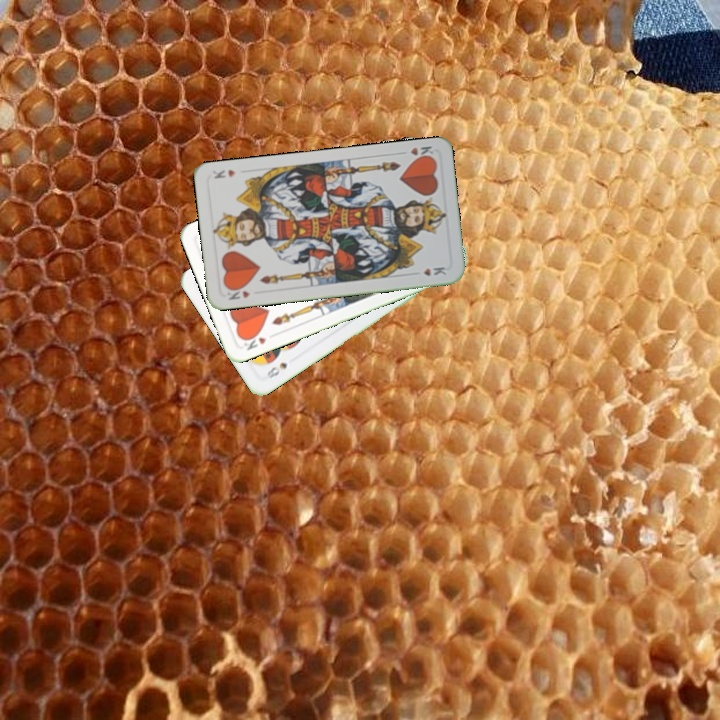HK: (396, 142, 436, 163), (237, 329, 269, 353), (223, 283, 253, 302)
S8: (262, 358, 290, 381)
